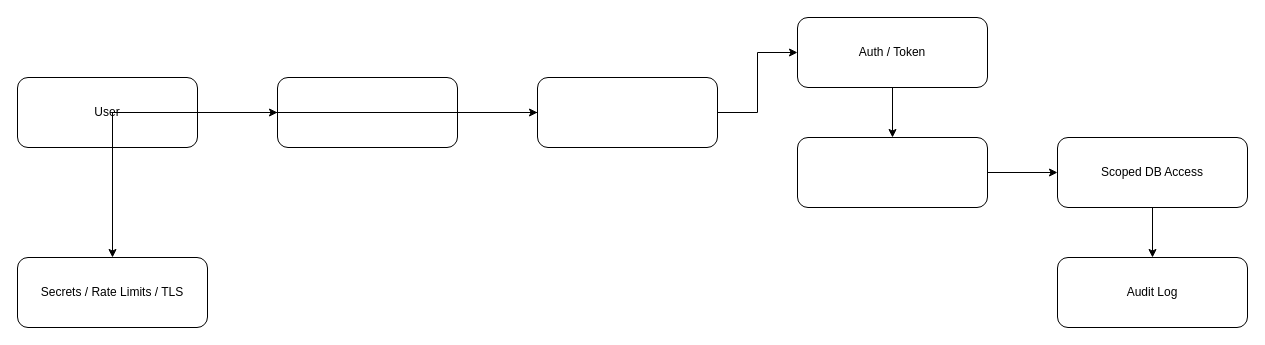
Image size: 1265x345. Some labels were removed from this diagram. The shapes that lost their labels are listed below. From the top down, each one's centre as x and y in pixels, then its label:
the point at 367,112: App
the point at 627,112: API
the point at 892,172: RBAC / Policy
